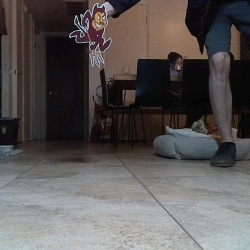sparky: (68, 2, 113, 68)
